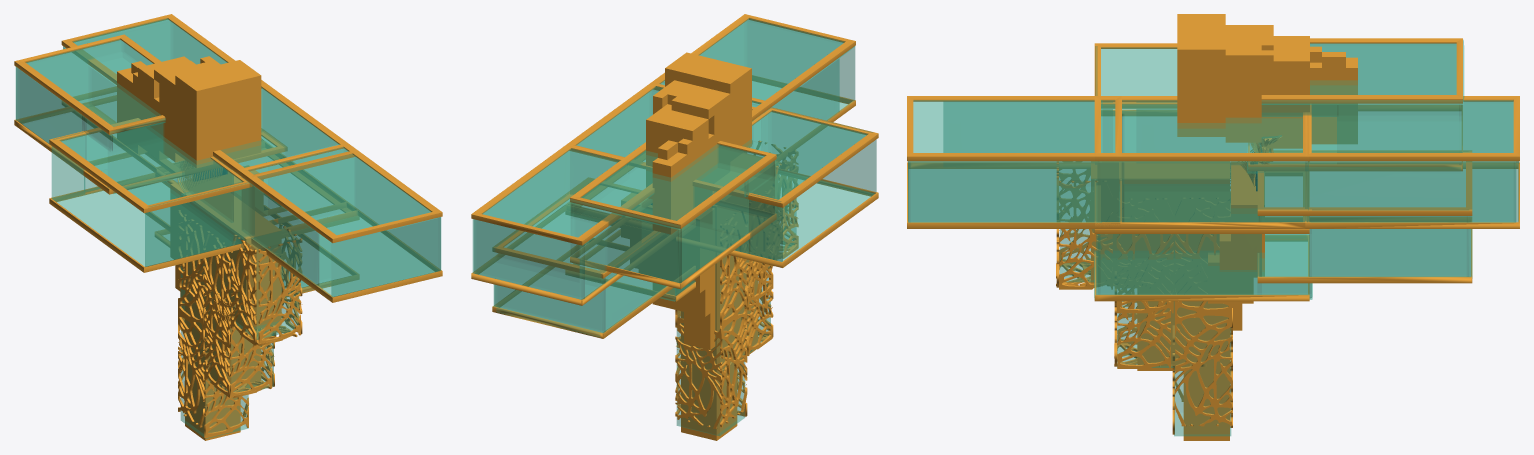
File: labsetup.2.glb
3 views of the same model, side by side, from view 1: azimuth 30°, elevation 25°; view 2: azimuth 150°, elevation 25°; view 3: azimuth 270°, elevation 25° (orthographic). The views are drawn at different scales.
Parts seen in each view (by area): view 1: assorted_display_cubes_1433, assorted_display_cubes_1433.001, rectangular_fish_tank_1468_glass.044, rectangular_fish_tank_1468_glass.009, rectangular_fish_tank_1468_glass.026, assorted_display_cubes_1433.003, rectangular_fish_tank_1468_glass.011, rectangular_fish_tank_1468_glass.039, rectangular_fish_tank_1468_glass.017, rectangular_fish_tank_1468_glass.004, rectangular_fish_tank_1468_frame.006, rectangular_fish_tank_1468_glass.020 (+33 smaller); view 2: assorted_display_cubes_1433, rectangular_fish_tank_1468_glass.004, assorted_display_cubes_1433.001, rectangular_fish_tank_1468_glass.001, rectangular_fish_tank_1468_glass.026, rectangular_fish_tank_1468_glass.028, rectangular_fish_tank_1468_glass.044, assorted_display_cubes_1433.002, rectangular_fish_tank_1468_glass.007, rectangular_fish_tank_1468_glass.017, rectangular_fish_tank_1468_glass.039, rectangular_fish_tank_1468_glass.009 (+34 smaller); view 3: assorted_display_cubes_1433, assorted_display_cubes_1433.001, rectangular_fish_tank_1468_glass.010, rectangular_fish_tank_1468_glass.006, rectangular_fish_tank_1468_glass.024, rectangular_fish_tank_1468_glass.001, rectangular_fish_tank_1468_glass.044, rectangular_fish_tank_1468_glass.021, rectangular_fish_tank_1468_glass.027, rectangular_fish_tank_1468_glass.011, rectangular_fish_tank_1468_glass.034, rectangular_fish_tank_1468_glass.020 (+29 smaller).
Part boxes in pixels (box(x1,y1,x2,y2)): assorted_display_cubes_1433: box(117, 56, 261, 167); assorted_display_cubes_1433.001: box(185, 186, 281, 440); rectangular_fish_tank_1468_glass.044: box(250, 154, 438, 243); rectangular_fish_tank_1468_glass.009: box(53, 183, 234, 266); rectangular_fish_tank_1468_glass.026: box(60, 128, 243, 205); assorted_display_cubes_1433.003: box(180, 192, 299, 438); rectangular_fish_tank_1468_glass.011: box(266, 215, 437, 296); rectangular_fish_tank_1468_glass.039: box(145, 182, 254, 266); rectangular_fish_tank_1468_glass.017: box(331, 217, 441, 296); rectangular_fish_tank_1468_glass.004: box(22, 39, 165, 135); rectangular_fish_tank_1468_frame.006: box(237, 143, 442, 302); rectangular_fish_tank_1468_glass.020: box(221, 87, 348, 176); assorted_display_cubes_1433: box(646, 52, 751, 234); rectangular_fish_tank_1468_glass.004: box(569, 144, 764, 229); assorted_display_cubes_1433.001: box(681, 153, 778, 440); rectangular_fish_tank_1468_glass.001: box(482, 148, 652, 244); rectangular_fish_tank_1468_glass.026: box(701, 110, 867, 199); rectangular_fish_tank_1468_glass.028: box(474, 219, 584, 298); rectangular_fish_tank_1468_glass.044: box(661, 18, 855, 107); assorted_display_cubes_1433.002: box(621, 193, 715, 349); rectangular_fish_tank_1468_glass.007: box(570, 203, 681, 282); rectangular_fish_tank_1468_glass.017: box(747, 20, 855, 103); rectangular_fish_tank_1468_glass.039: box(771, 107, 876, 194); rectangular_fish_tank_1468_glass.009: box(735, 171, 874, 261); assorted_display_cubes_1433: box(1177, 14, 1357, 148); assorted_display_cubes_1433.001: box(1091, 161, 1229, 440); rectangular_fish_tank_1468_glass.010: box(908, 161, 1118, 221); rectangular_fish_tank_1468_glass.006: box(1097, 161, 1308, 222); rectangular_fish_tank_1468_glass.024: box(1308, 161, 1518, 222); rectangular_fish_tank_1468_glass.001: box(1310, 100, 1515, 162); rectangular_fish_tank_1468_glass.044: box(908, 100, 1102, 162); rectangular_fish_tank_1468_glass.021: box(1096, 234, 1261, 294); rectangular_fish_tank_1468_glass.027: box(1257, 229, 1472, 277); rectangular_fish_tank_1468_glass.011: box(909, 168, 1101, 222); rectangular_fish_tank_1468_glass.034: box(1309, 216, 1471, 276); rectangular_fish_tank_1468_glass.020: box(1100, 100, 1304, 162).
Bounding box in the file's own units: 1.21 × 1.91 × 2.64.
8 materials, 4 textured.
